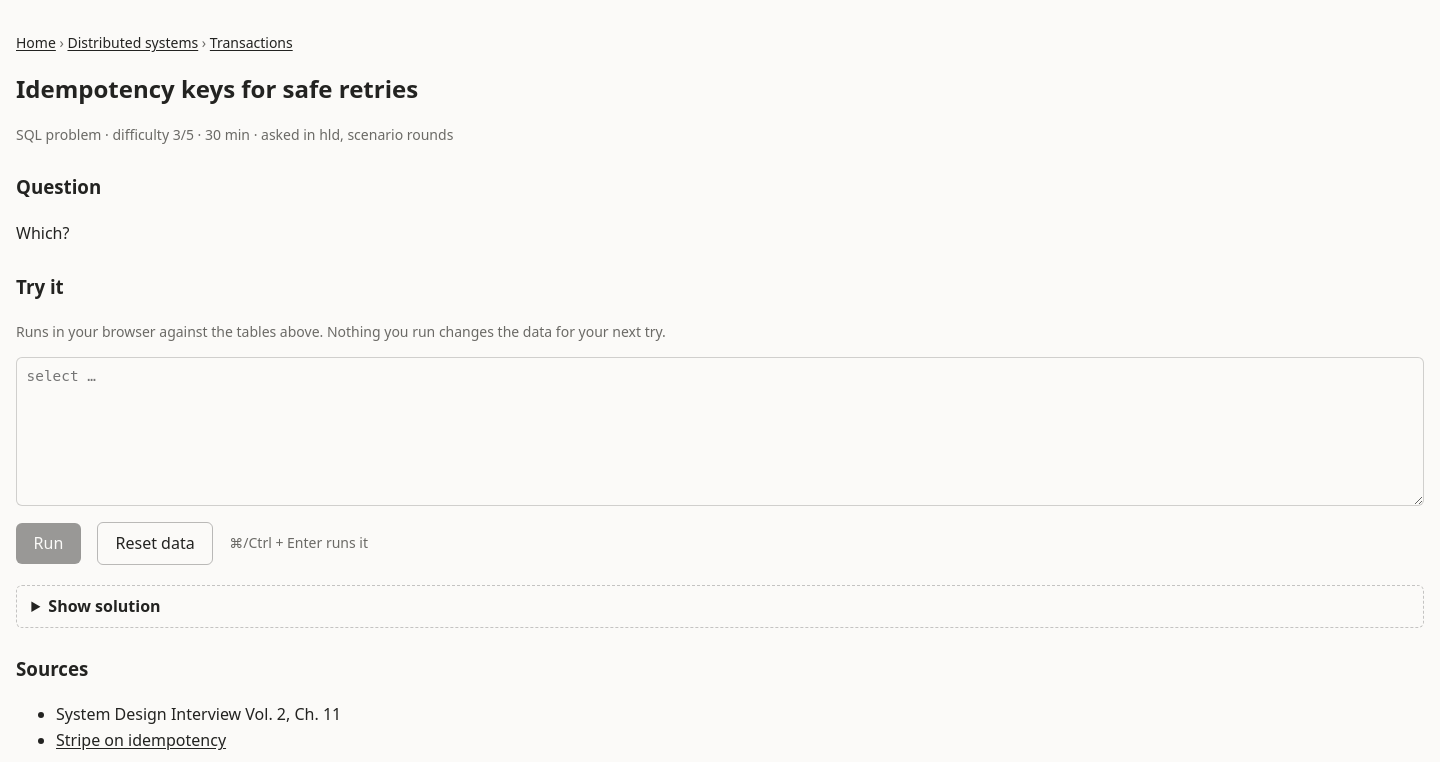
Scenario: UnitPage › runs a SQL answer and says whether it is the answer
In the text box named "Your query": (720, 432) [16, 357, 1424, 506], type "select id from p"
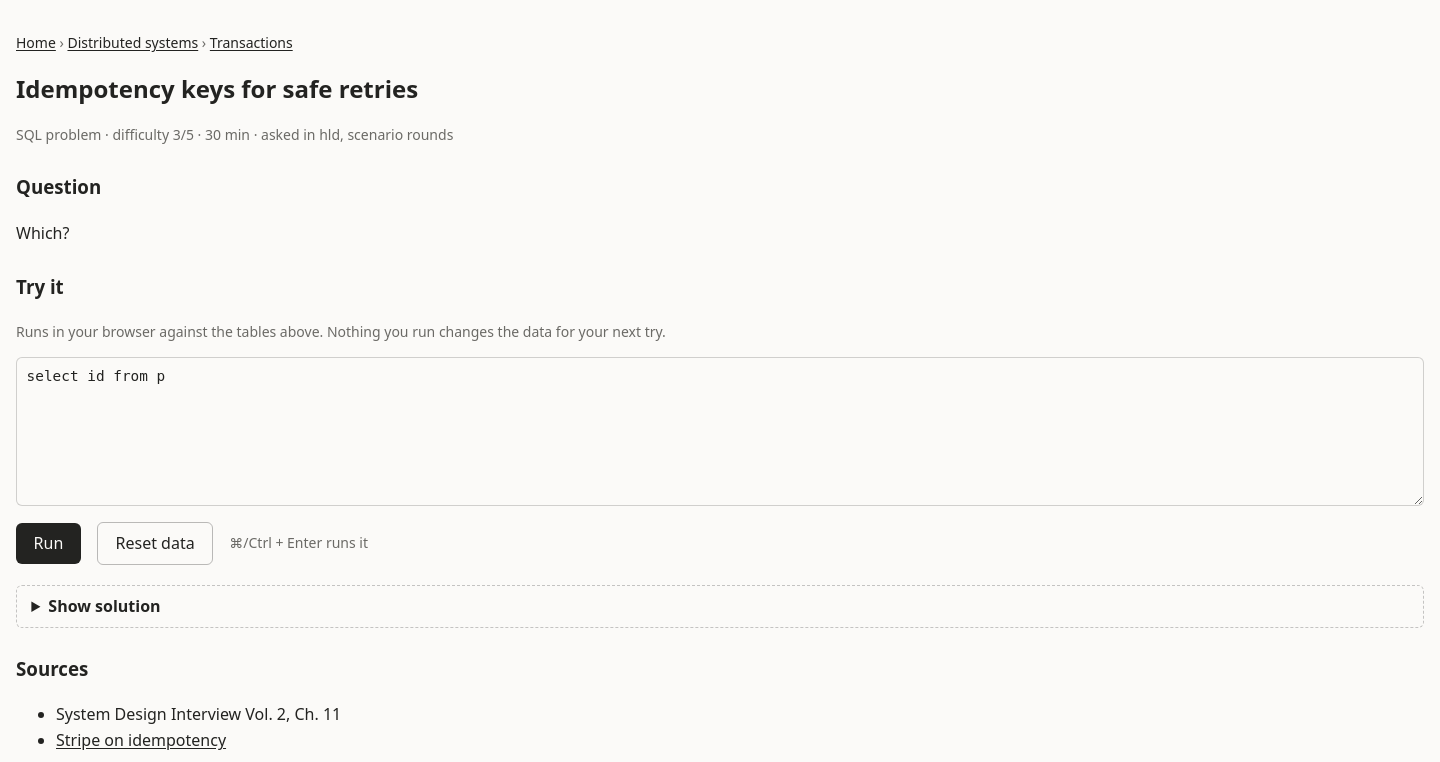
Click the button "Run": (48, 544) [16, 523, 81, 564]
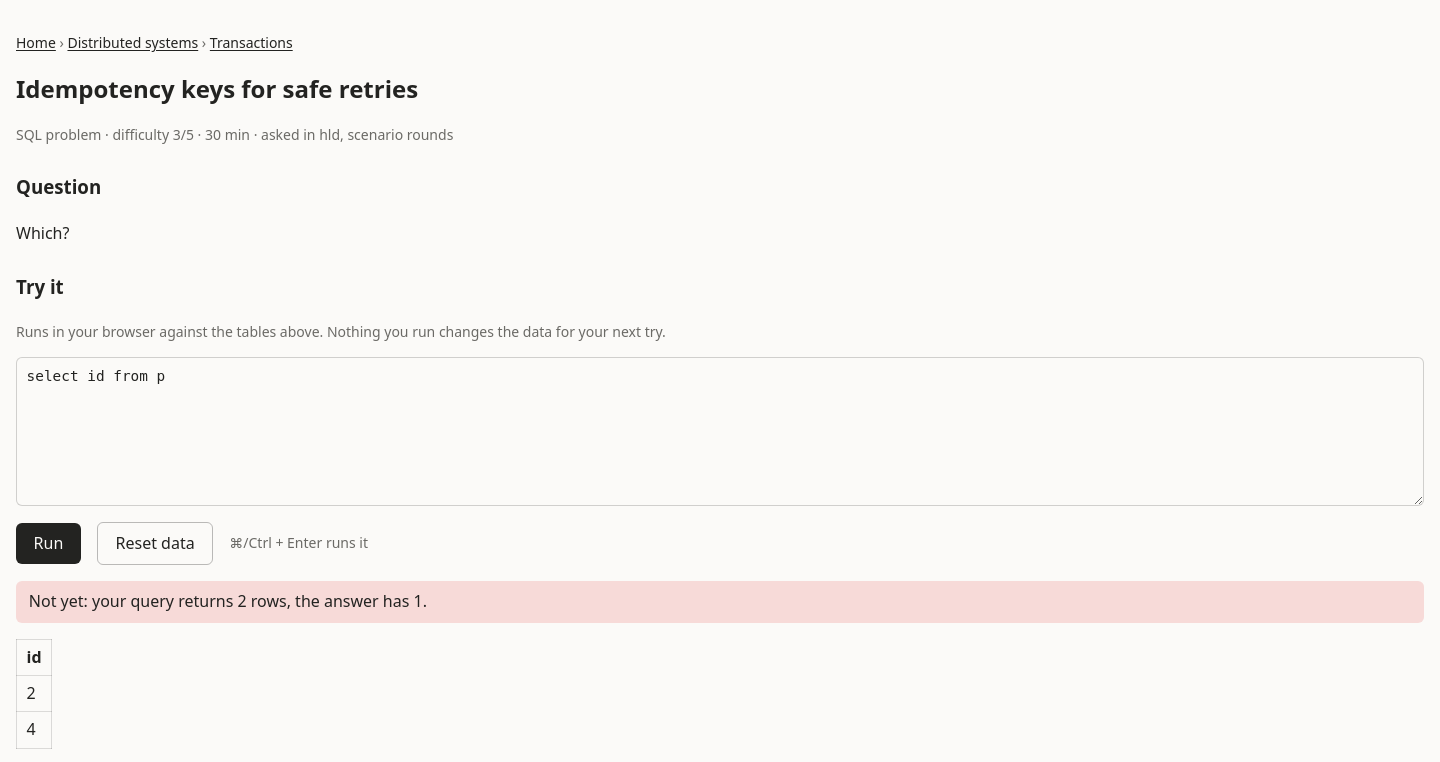
Check: the text "Not yet: your query returns 2 rows, the answer has 1." is shown, box [16, 582, 1424, 623]
Check: the cell "4" is shown, box [16, 712, 52, 748]
Click the button "Run": (48, 544) [16, 523, 81, 564]
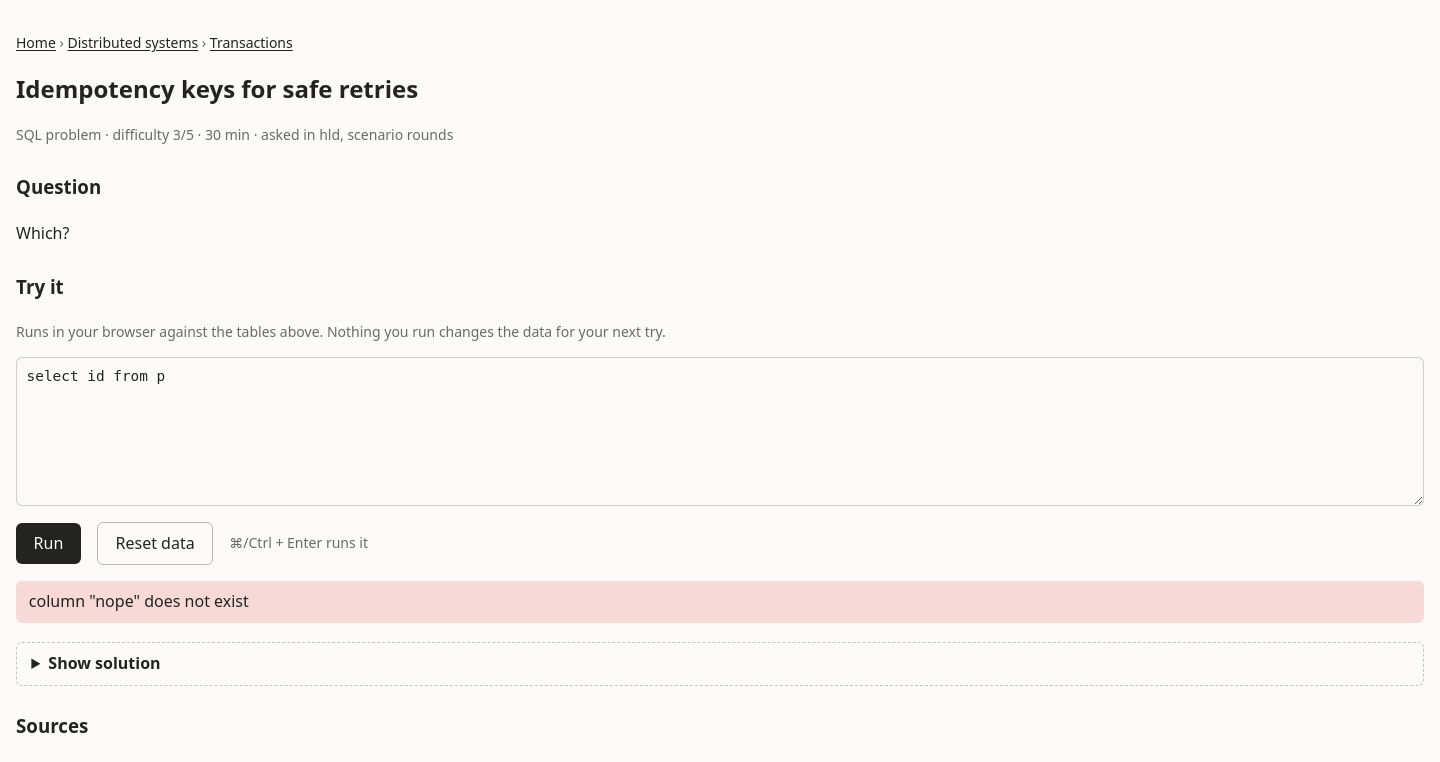
Check: the message "column \"nope\" does not exist" reads "column \"nope\" does not exist", box [29, 590, 249, 612]
